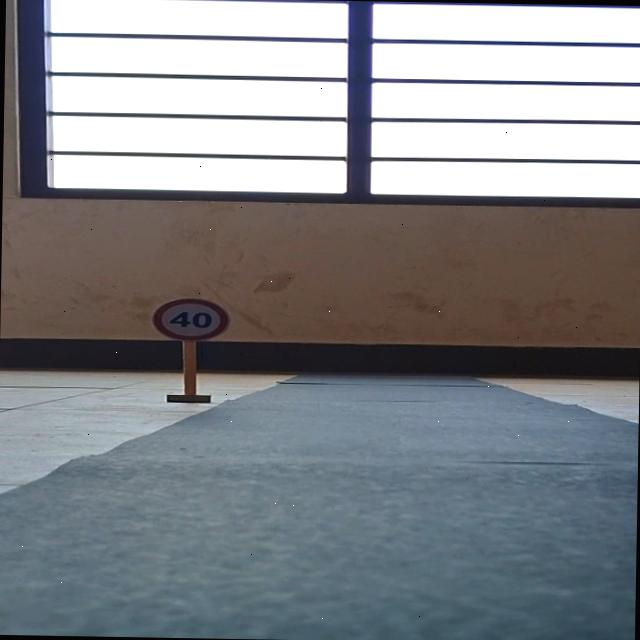Speed40: (148, 290, 235, 343)
